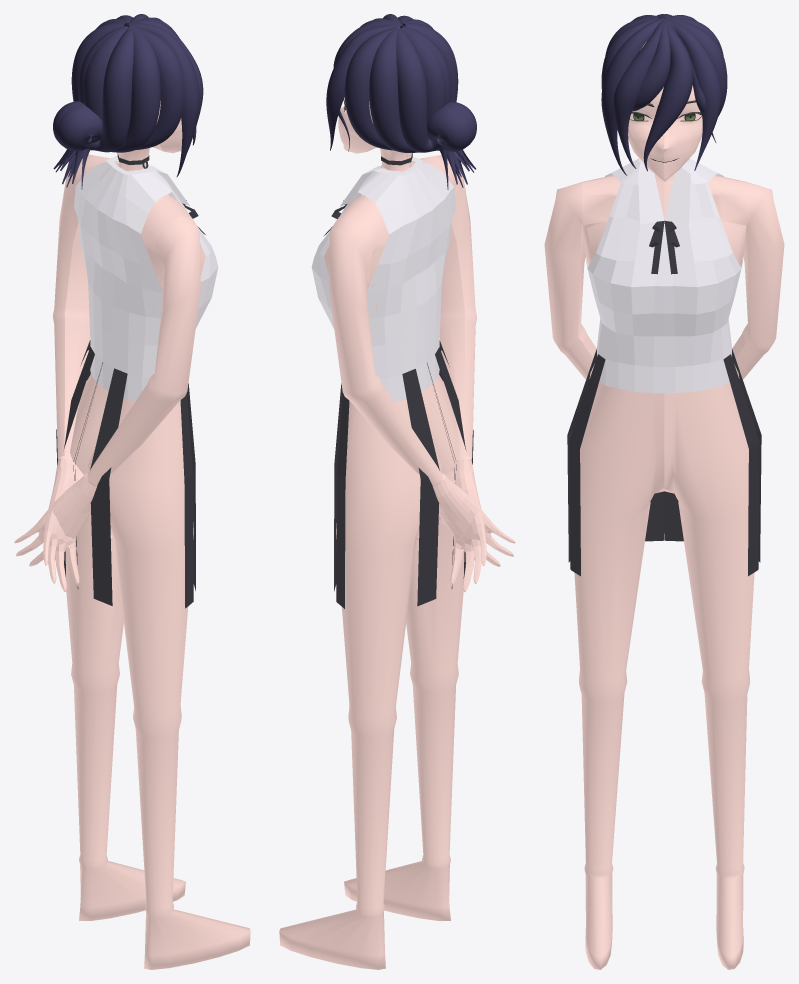
File: rezefinishere.glb
The picture shows the model from 3 angles, left to right: view 1: azimuth 30°, elevation 25°; view 2: azimuth 150°, elevation 25°; view 3: azimuth 270°, elevation 25°; orthographic projection.
Parts seen in each view (by area): view 1: Plane, Plane.006, Plane.008, NurbsPath.007, NurbsPath.008, NurbsPath.009, NurbsPath.006, NurbsPath.005, NurbsPath.002; view 2: Plane, Plane.006, Plane.008, NurbsPath.007, NurbsPath.008, NurbsPath.009, NurbsPath.006, NurbsPath.004; view 3: Plane, Plane.006, Plane.008, NurbsPath, NurbsPath.004, NurbsPath.002, NurbsPath.005, NurbsPath.009, NurbsPath.001, Plane.007.
Boxes of the visible parts, x1,y1,x2,y2 form: Plane: (14, 101, 250, 969); Plane.006: (74, 156, 218, 401); Plane.008: (56, 340, 195, 608); NurbsPath.007: (53, 22, 133, 176); NurbsPath.008: (53, 18, 160, 189); NurbsPath.009: (53, 15, 184, 187); NurbsPath.006: (55, 26, 128, 183); NurbsPath.005: (129, 23, 199, 177); NurbsPath.002: (128, 20, 203, 151); Plane: (279, 97, 515, 969); Plane.006: (311, 156, 455, 402); Plane.008: (334, 340, 473, 608); NurbsPath.007: (396, 23, 476, 177); NurbsPath.008: (369, 19, 476, 189); NurbsPath.009: (344, 15, 476, 187); NurbsPath.006: (401, 26, 474, 184); NurbsPath.004: (326, 25, 400, 150); Plane: (544, 42, 784, 969); Plane.006: (586, 158, 742, 393); Plane.008: (567, 349, 761, 576); NurbsPath: (643, 19, 693, 171); NurbsPath.004: (669, 19, 721, 170); NurbsPath.002: (613, 18, 664, 168); NurbsPath.005: (601, 17, 664, 175); NurbsPath.009: (601, 18, 727, 116); NurbsPath.001: (632, 18, 670, 111); Plane.007: (649, 220, 679, 274).
Size of the model in its own units: 2.25 by 10.48 by 2.5.
8 materials, 1 textured.
